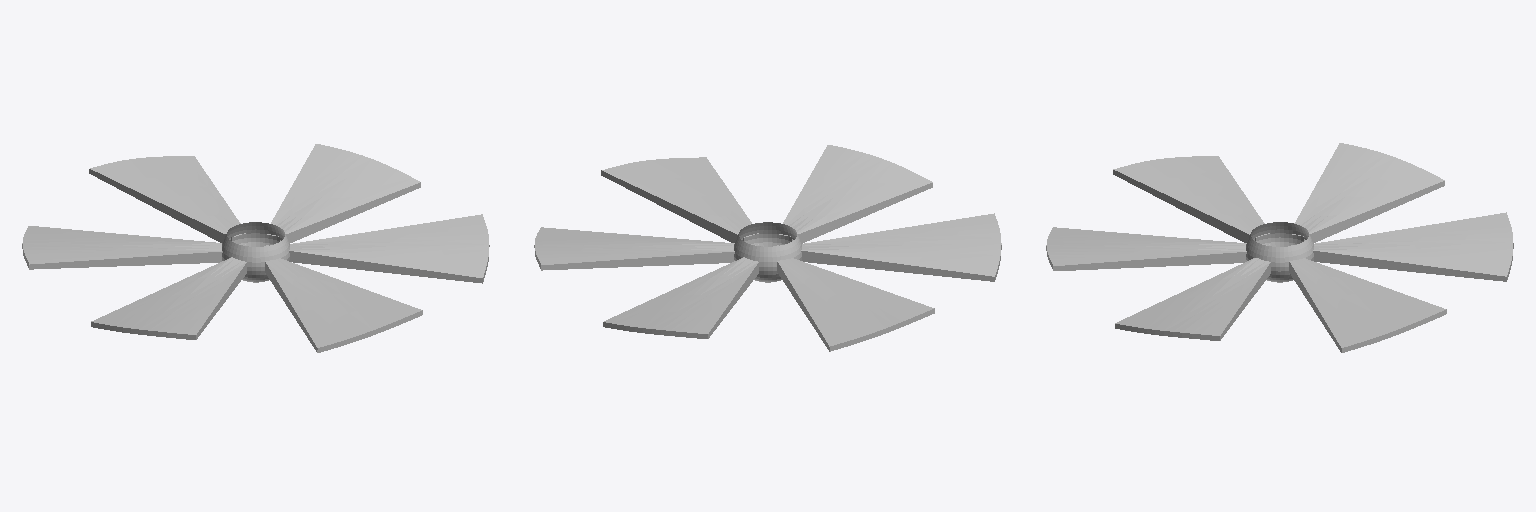
Rendered from propeller.obj.
3 renders of one model, left to right at view 1: azimuth 30°, elevation 25°; view 2: azimuth 150°, elevation 25°; view 3: azimuth 270°, elevation 25°, orthographic.
Visible parts, largest first — view 1: Rotor_R_Cube.012; view 2: Rotor_R_Cube.012; view 3: Rotor_R_Cube.012.
Part boxes in pixels (x1,y1,x2,y2): Rotor_R_Cube.012: (22,144,489,352); Rotor_R_Cube.012: (534,145,1001,351); Rotor_R_Cube.012: (1046,143,1513,352).
Size of the model in its own units: 0.2177 by 0.0229 by 0.224.